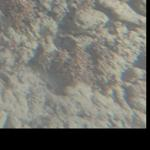dead: (1, 1, 145, 126)
